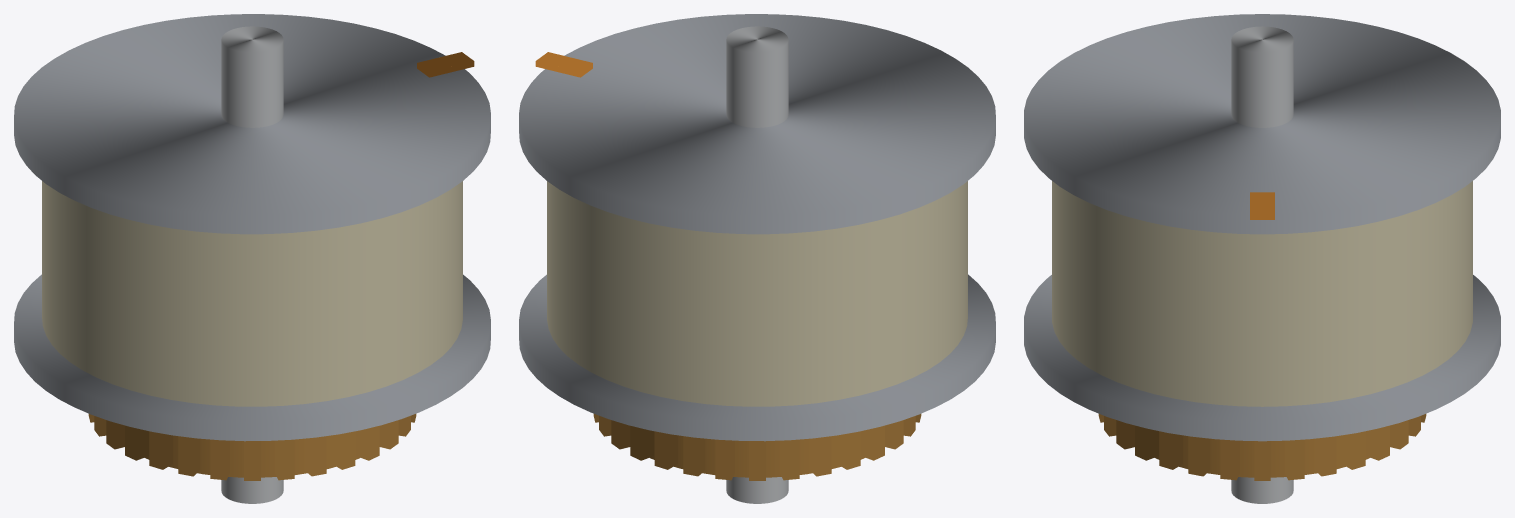
File: worm_wheel_drum.obj
3 views of the same model, side by side, from view 1: azimuth 30°, elevation 25°; view 2: azimuth 150°, elevation 25°; view 3: azimuth 270°, elevation 25° (orthographic).
Parts seen in each view (by area): view 1: drum_flange_2, rope_wraps, drum_flange, shaft, wheel_rim, drum, index_mark, tooth_19, tooth_23, tooth_18, tooth_24, tooth_22 (+4 smaller); view 2: drum_flange_2, rope_wraps, drum_flange, shaft, wheel_rim, drum, index_mark, tooth_13, tooth_9, tooth_14, tooth_8, tooth_10 (+4 smaller); view 3: drum_flange_2, rope_wraps, drum_flange, shaft, wheel_rim, drum, tooth_3, tooth_29, tooth_4, tooth_28, tooth_2, tooth_30 (+4 smaller).
Boxes of the visible parts, <box> form: drum_flange_2: <box>14,14,490,234</box>; rope_wraps: <box>42,181,462,406</box>; drum_flange: <box>14,274,490,441</box>; shaft: <box>221,26,283,503</box>; wheel_rim: <box>144,431,360,477</box>; drum: <box>60,354,442,409</box>; index_mark: <box>417,52,474,77</box>; tooth_19: <box>178,436,200,476</box>; tooth_23: <box>304,436,326,476</box>; tooth_18: <box>149,431,172,469</box>; tooth_24: <box>332,431,355,469</box>; tooth_22: <box>275,439,294,480</box>; drum_flange_2: <box>519,14,995,234</box>; rope_wraps: <box>547,181,967,406</box>; drum_flange: <box>519,274,995,441</box>; shaft: <box>726,26,788,503</box>; wheel_rim: <box>649,431,865,477</box>; drum: <box>567,354,949,409</box>; index_mark: <box>535,52,592,77</box>; tooth_13: <box>809,436,831,476</box>; tooth_9: <box>683,436,705,476</box>; tooth_14: <box>837,431,860,469</box>; tooth_8: <box>654,431,677,469</box>; tooth_10: <box>715,439,734,480</box>; drum_flange_2: <box>1024,14,1500,234</box>; rope_wraps: <box>1052,181,1472,406</box>; drum_flange: <box>1024,275,1500,441</box>; shaft: <box>1231,26,1293,503</box>; wheel_rim: <box>1155,431,1369,477</box>; drum: <box>1068,352,1456,409</box>; tooth_3: <box>1314,436,1336,476</box>; tooth_29: <box>1188,436,1210,476</box>; tooth_4: <box>1342,431,1365,469</box>; tooth_28: <box>1159,431,1182,469</box>; tooth_2: <box>1285,439,1304,480</box>; tooth_30: <box>1220,439,1239,480</box>.
Bounding box in the file's own units: 0.0235 × 0.024 × 0.023.
